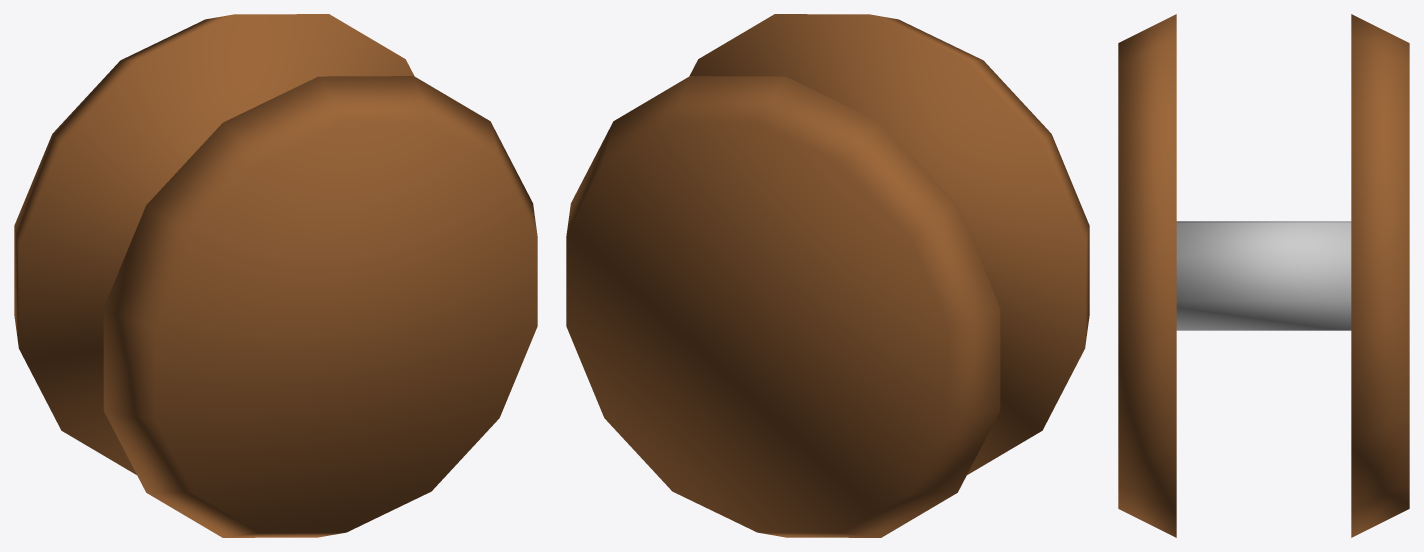
Rendered from wood_yoyo_head.glb.
3 views of the same model, side by side, from view 1: azimuth 30°, elevation 25°; view 2: azimuth 150°, elevation 25°; view 3: azimuth 270°, elevation 25° (orthographic). The views are drawn at different scales.
Parts seen in each view (by area): view 1: wood_yoyo_head_v0; view 2: wood_yoyo_head_v0; view 3: wood_yoyo_head_v0.
Part boxes in pixels (left/top/right/bottom): wood_yoyo_head_v0: left=14, top=14, right=537, bottom=537; wood_yoyo_head_v0: left=566, top=14, right=1089, bottom=537; wood_yoyo_head_v0: left=1118, top=14, right=1409, bottom=537.
Bounding box in the file's own units: 0.1755 × 0.18 × 0.1.
